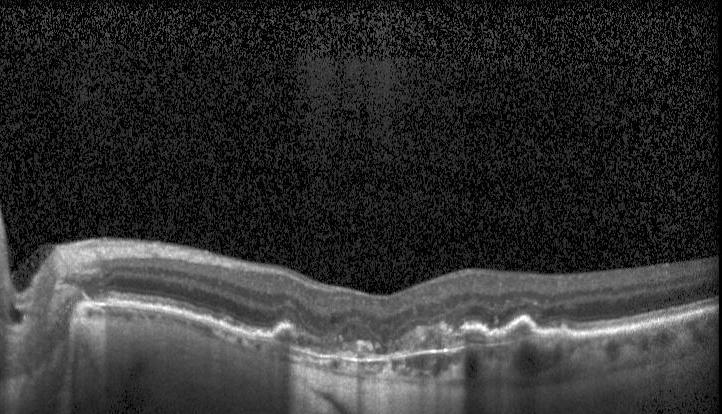retinal_drusen: (277, 328, 294, 342), (296, 336, 310, 346)
subretinal_hyperreflective_material: (336, 315, 538, 360)
